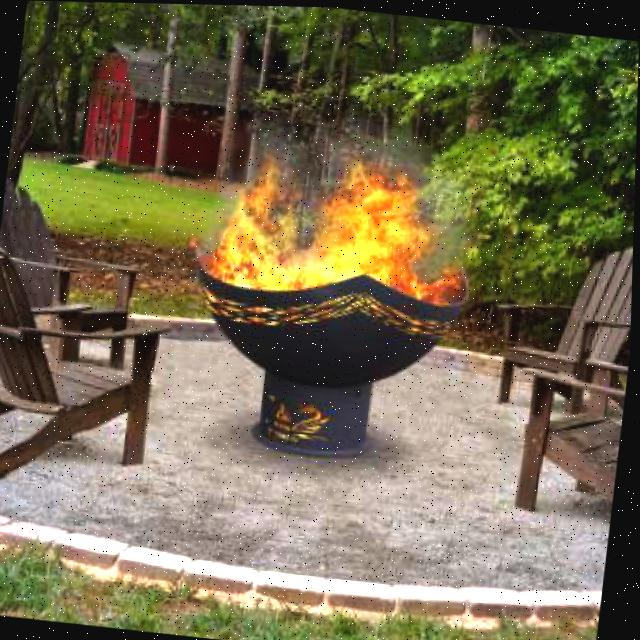Fire: (213, 131, 445, 321), (410, 155, 486, 299)
